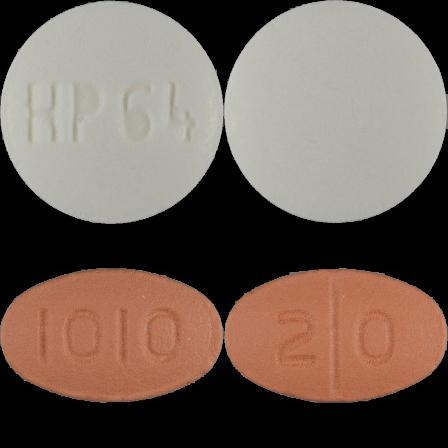61919-385: (0, 0, 224, 224)
